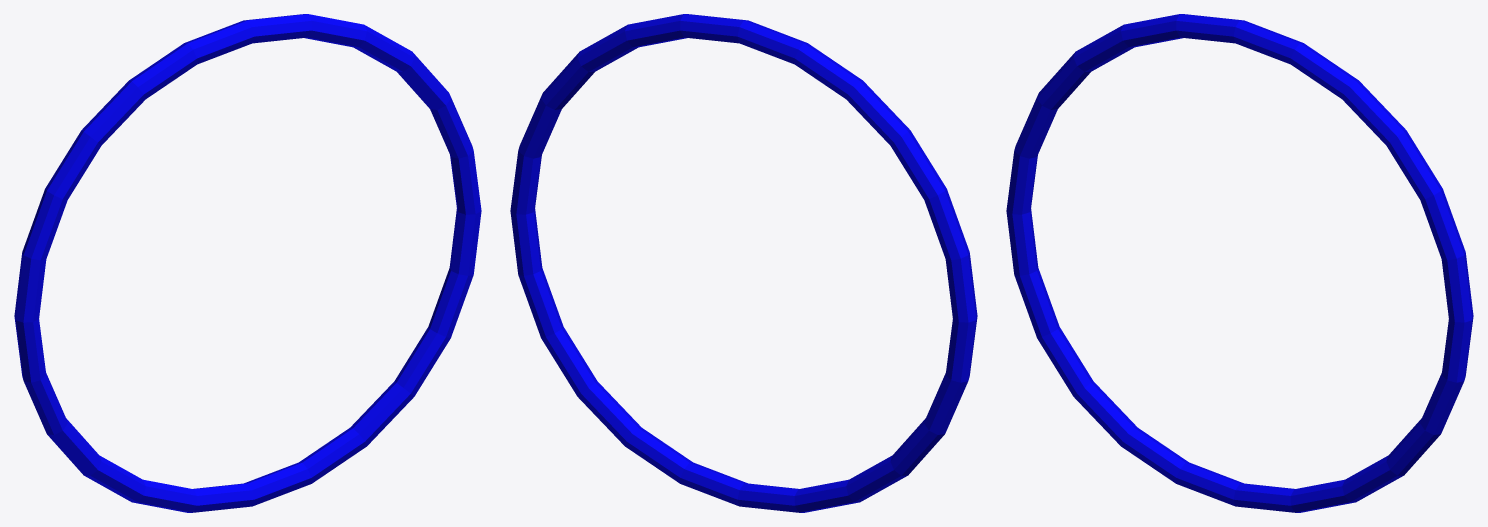
Rendered from gimbalZ.glb.
3 views of the same model, side by side, from view 1: azimuth 30°, elevation 25°; view 2: azimuth 150°, elevation 25°; view 3: azimuth 330°, elevation 25° (orthographic).
Parts seen in each view (by area): view 1: Torus.001; view 2: Torus.001; view 3: Torus.001.
Part boxes in pixels (<box>): Torus.001: <box>14,14,481,512</box>; Torus.001: <box>510,14,977,512</box>; Torus.001: <box>1006,14,1473,512</box>.
Bounding box in the file's own units: 2.1 × 2.1 × 0.1.
